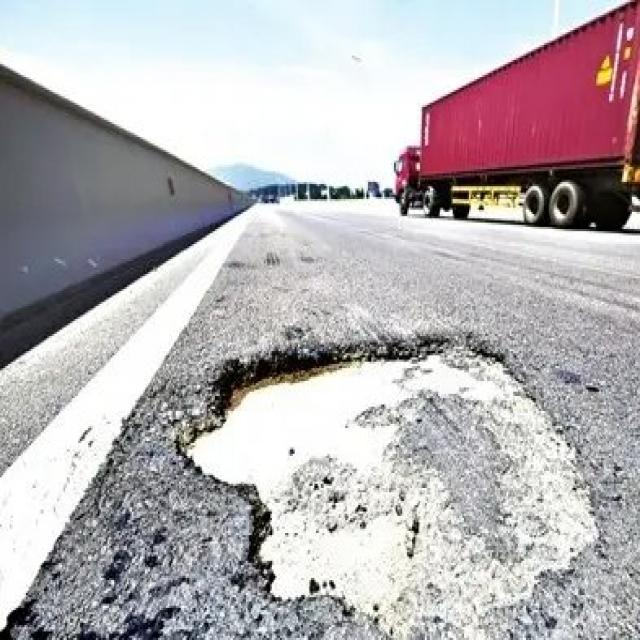Pothole: (171, 319, 598, 625)
